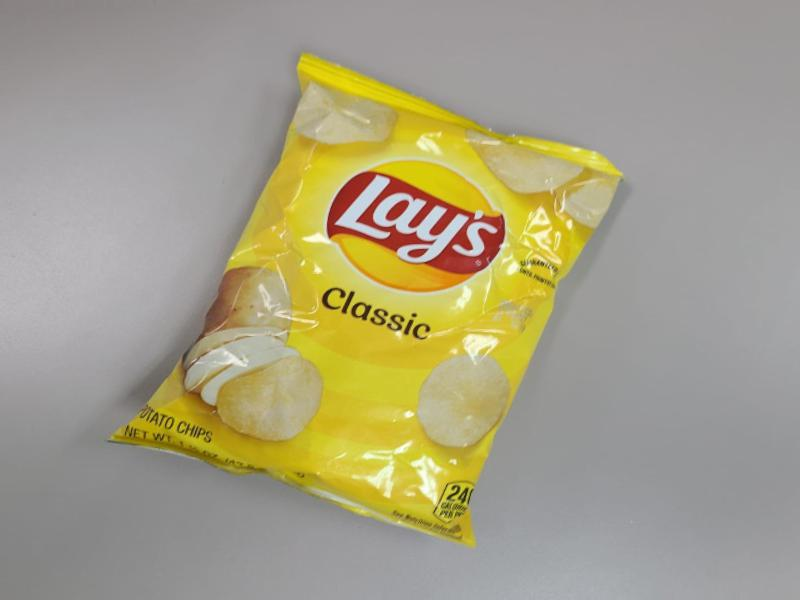lays: (227, 0, 609, 600)
